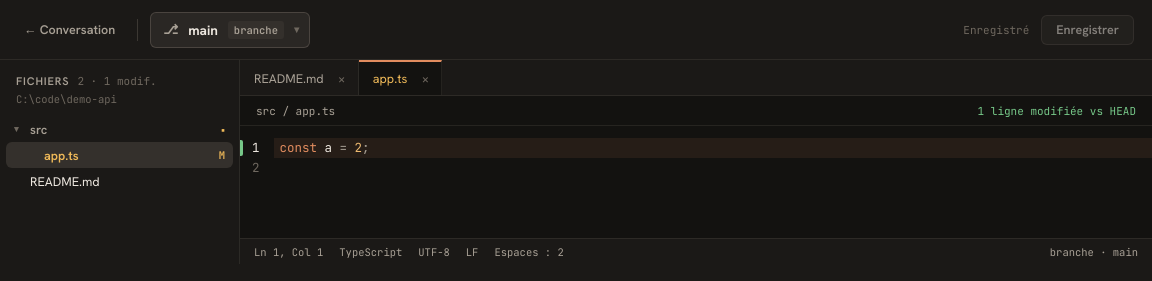
Test case: EditorView › does not show the previous file’s comparison on the one just opened
The width and height of the screenshot is (1152, 281).
expect the text "1 ligne modifiée vs HEAD" is shown: met, box x1=978 y1=104 x2=1136 y2=118
Click the tab "README.md ×": {"x": 299, "y": 78} x1=240 y1=60 x2=359 y2=95
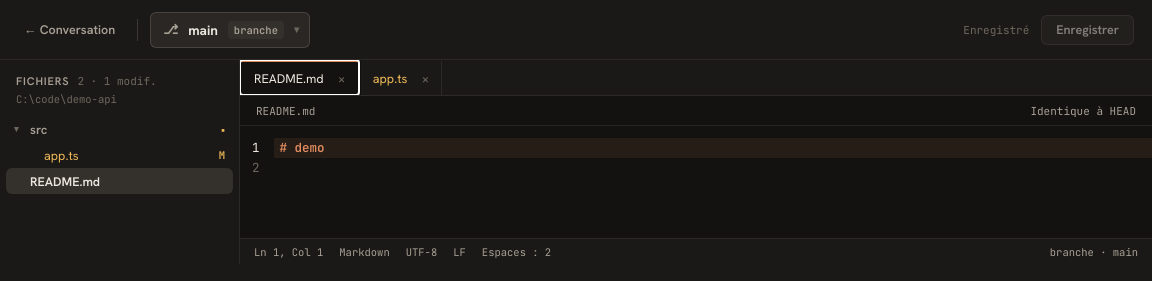
expect the text "Identique à HEAD" is shown: met, box x1=1030 y1=104 x2=1136 y2=118
// Both files are loaded now: back on app.ts, README.md’s comparison must not stay until app.ts’s is computed.
Click the tab "app.ts ×": {"x": 400, "y": 78} x1=359 y1=60 x2=442 y2=95
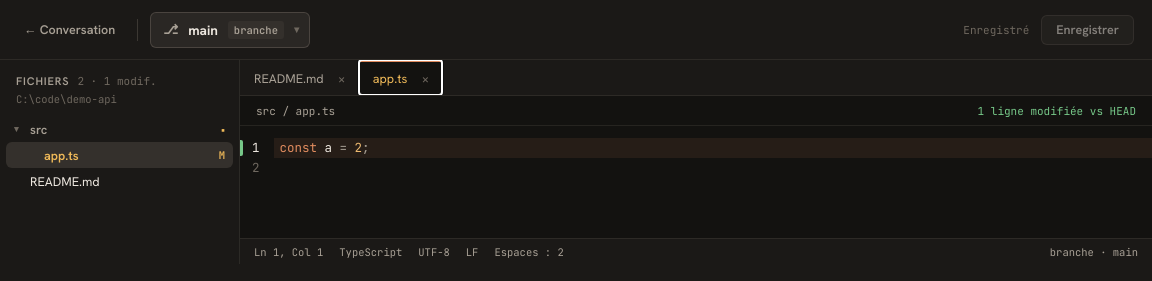
expect the text "Identique à HEAD" is gone: met
expect the text "1 ligne modifiée vs HEAD" is shown: met, box x1=978 y1=104 x2=1136 y2=118
